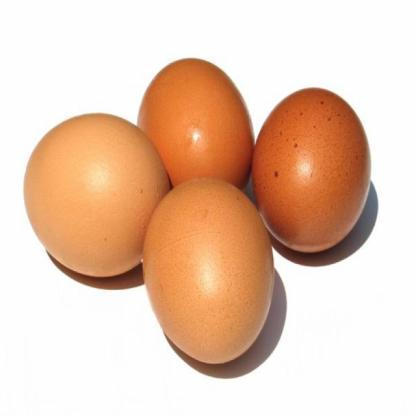egg: (144, 160, 296, 390), (19, 101, 177, 307), (255, 53, 390, 276), (118, 23, 267, 192)
